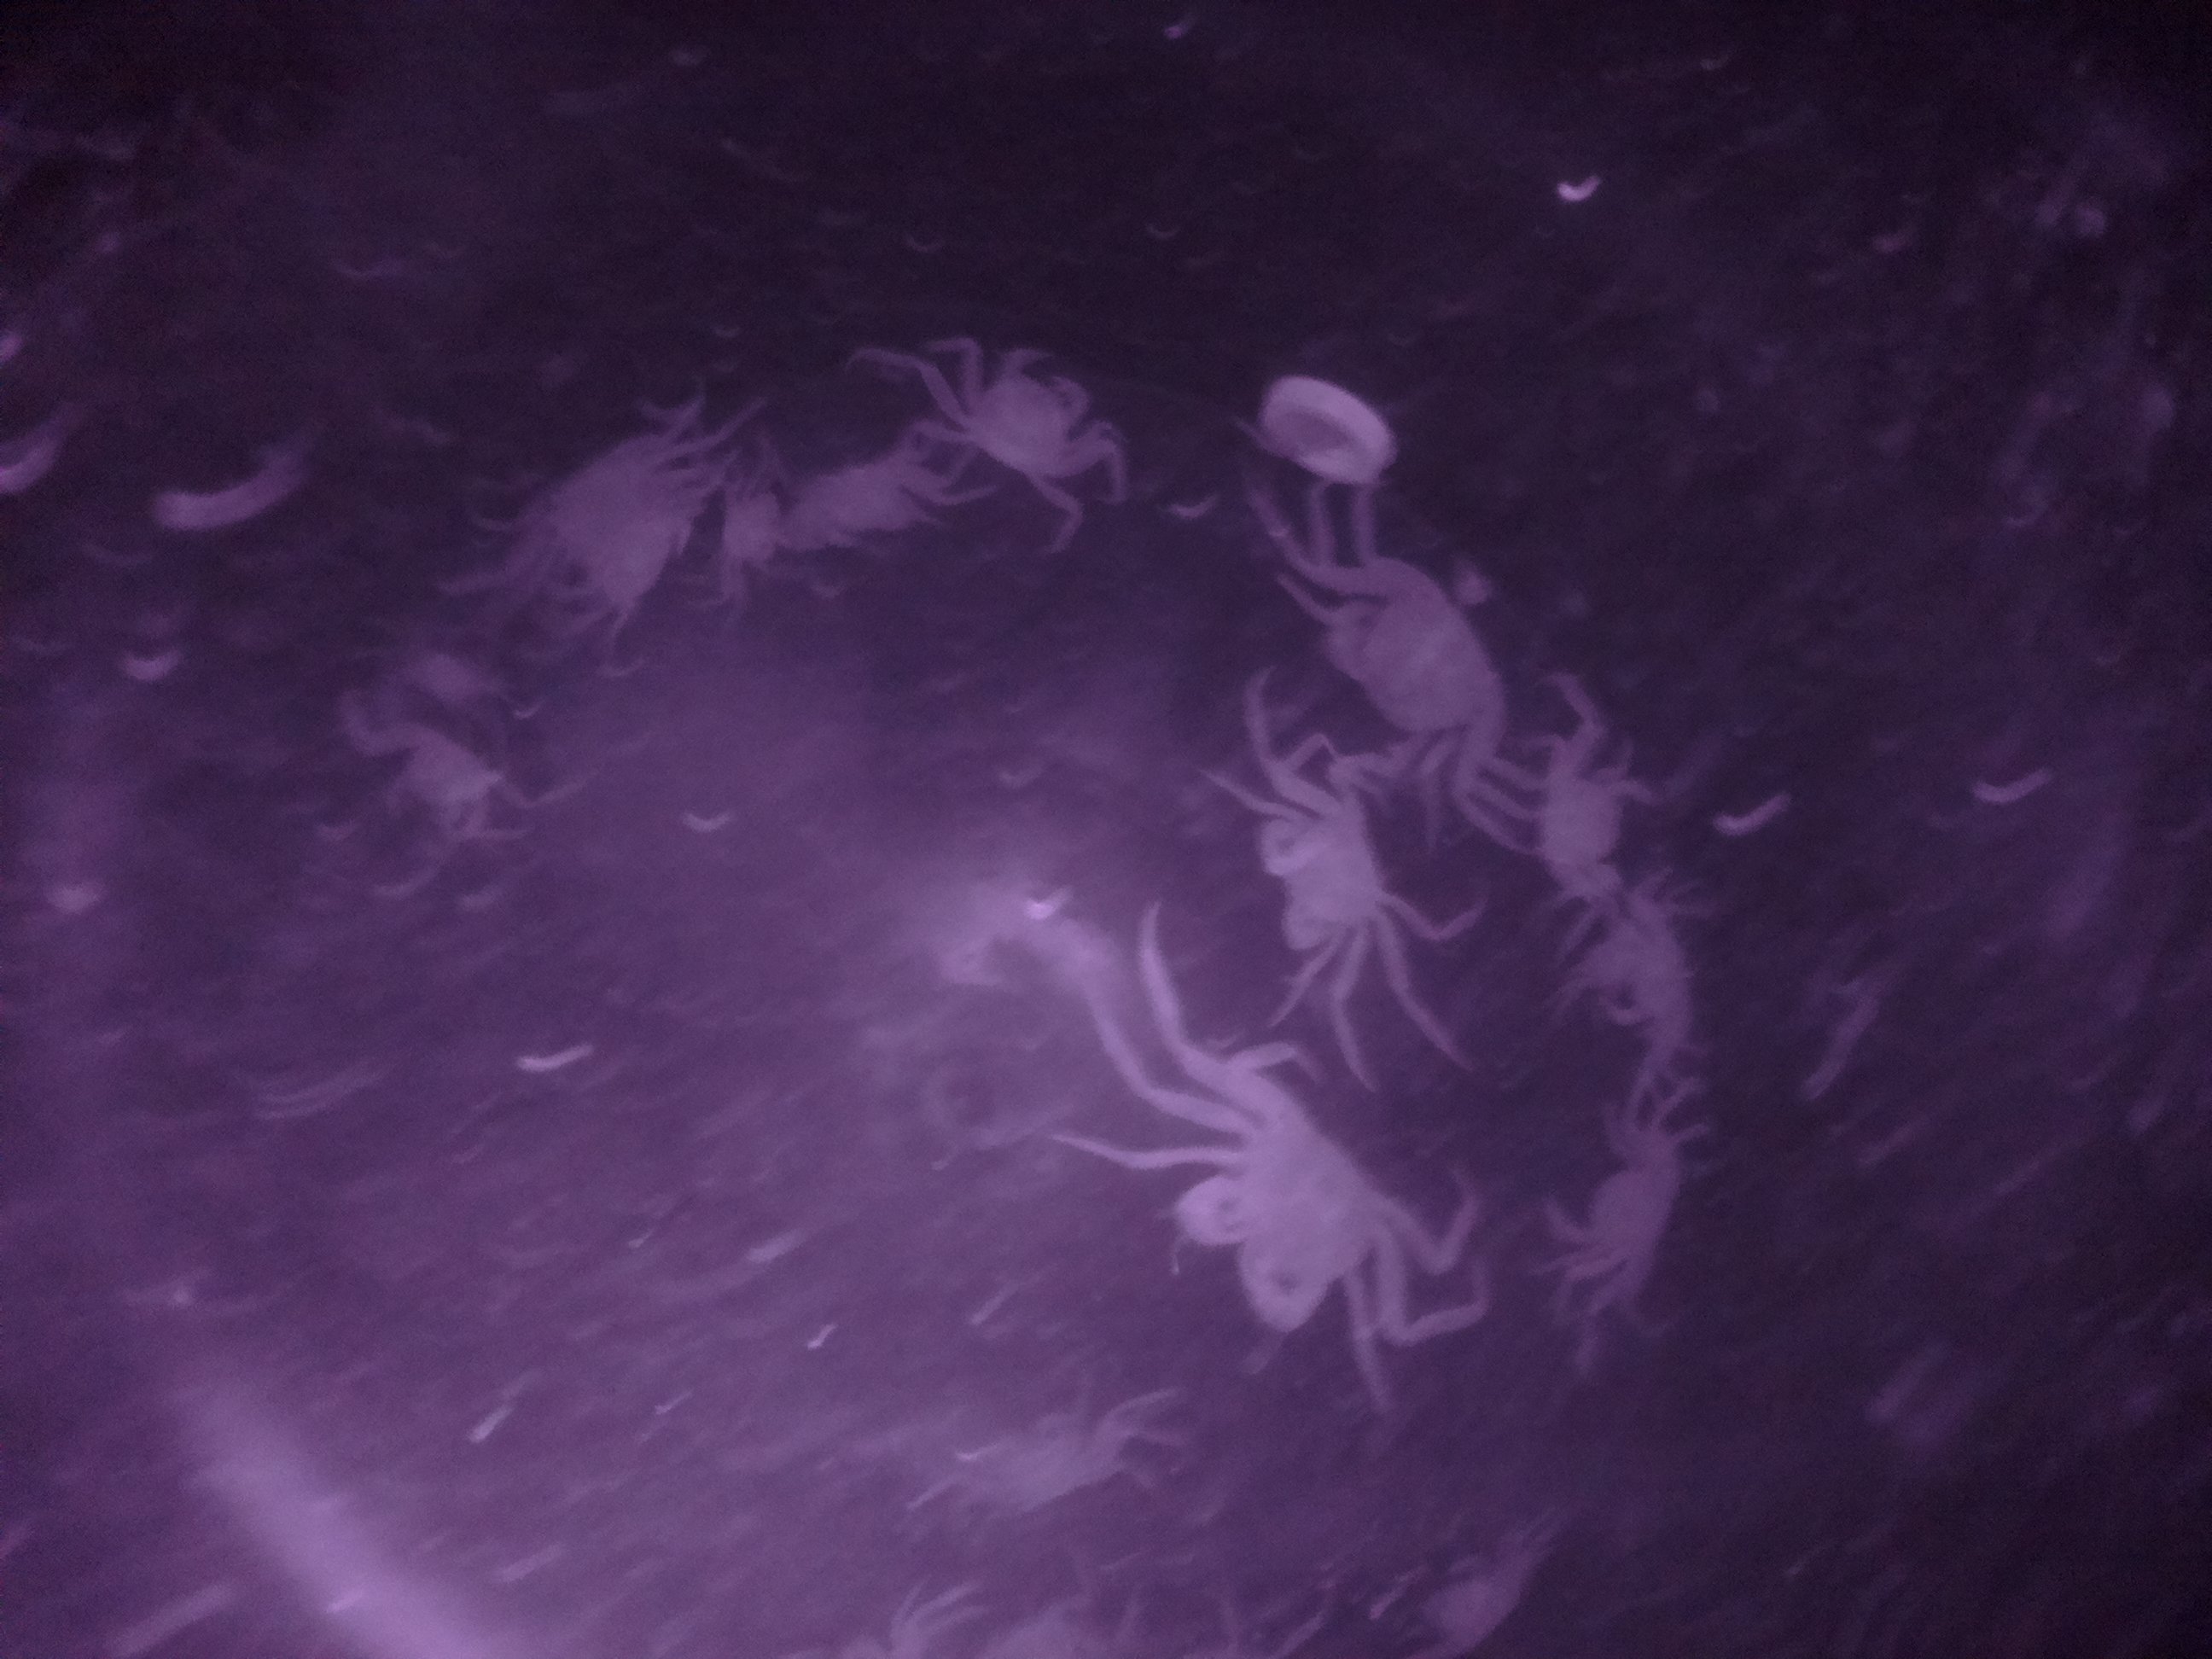Crab: (1160, 1063, 1423, 1359), (1313, 530, 1538, 767), (1538, 1084, 1698, 1319), (1245, 774, 1407, 993), (935, 326, 1115, 500)
